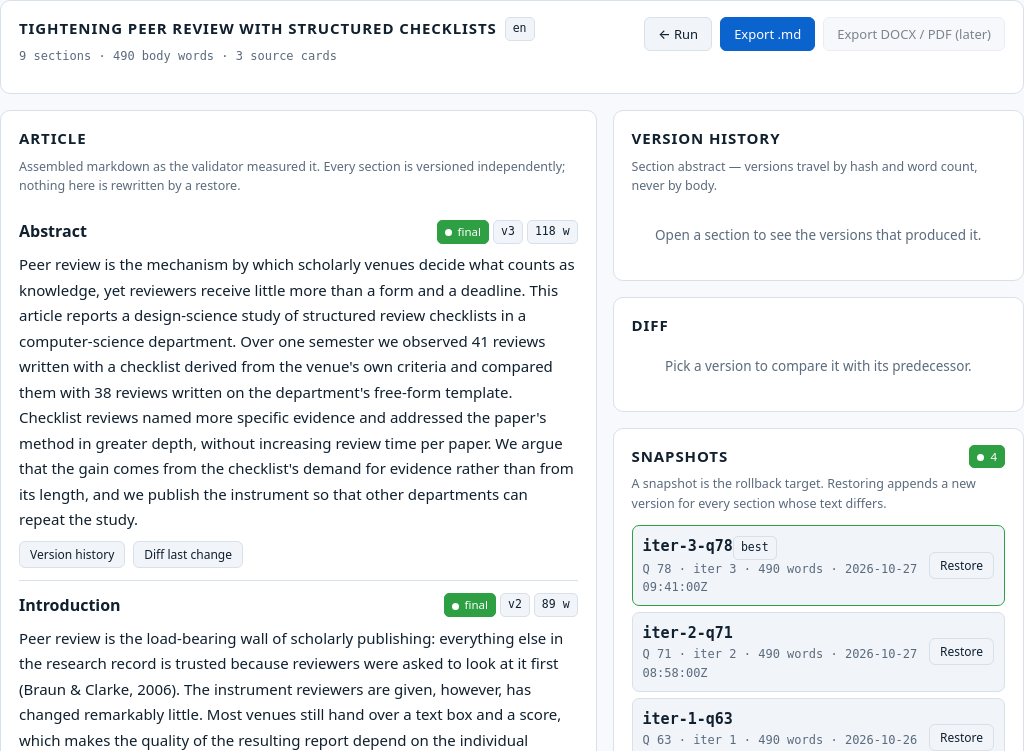
Scenario: ArticleViewer (sections, history, diff, restore, RTL, export) › opens a section history and compares two versions
Step 1. Click the button "Version history" → (72, 554), box [19,541,125,568]
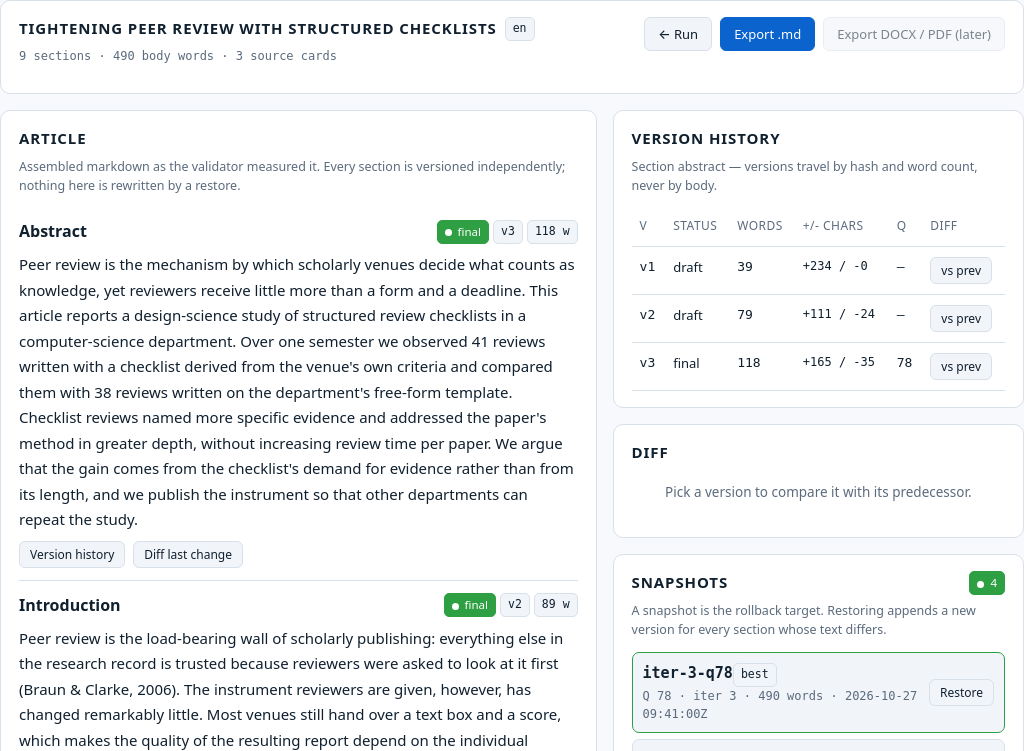
Check: the text "Section abstract" is shown, box [632,158,725,175]
Check: the table is shown, box [632,246,1005,390]
Step 2. Click the button "vs prev" in the row of "39" → (961, 270), box [930,257,992,284]
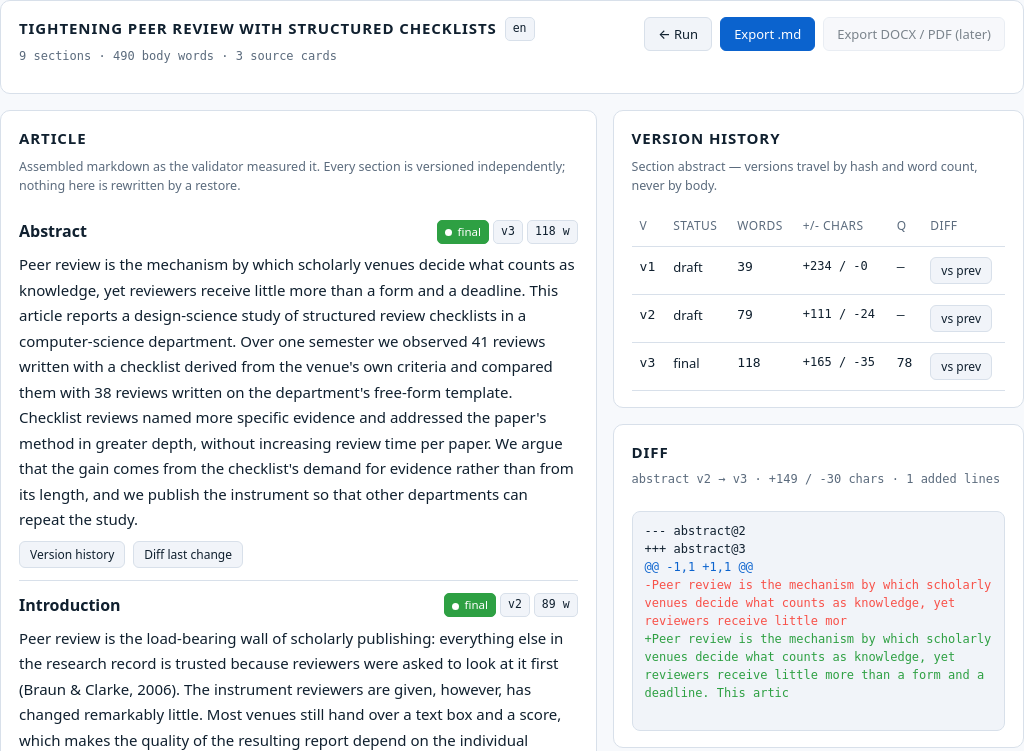
Check: the element with class "diff-block" is shown, box [632,511,1005,731]
Check: the element with class "diff-block" shows "@@", box [645,560,753,574]
